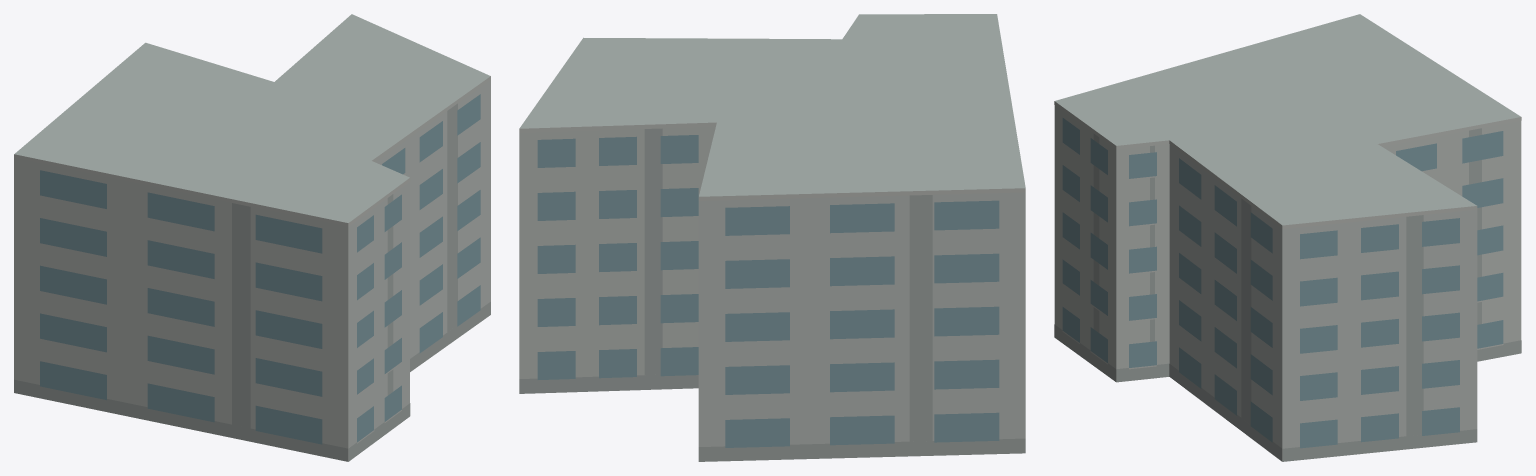
Rendered from residential-748f0e43-3990-4abc-9662-7804147257c4.glb.
3 views of the same model, side by side, from view 1: azimuth 30°, elevation 25°; view 2: azimuth 150°, elevation 25°; view 3: azimuth 270°, elevation 25° (orthographic). The views are drawn at different scales.
Parts seen in each view (by area): view 1: residential-748f0e43-3990-4abc-9662-7804147257c4.tmp; view 2: residential-748f0e43-3990-4abc-9662-7804147257c4.tmp; view 3: residential-748f0e43-3990-4abc-9662-7804147257c4.tmp.
Part boxes in pixels (bbox=[...]): residential-748f0e43-3990-4abc-9662-7804147257c4.tmp: bbox=[14, 14, 490, 461]; residential-748f0e43-3990-4abc-9662-7804147257c4.tmp: bbox=[519, 14, 1025, 461]; residential-748f0e43-3990-4abc-9662-7804147257c4.tmp: bbox=[1054, 14, 1521, 461].
Bounding box in the file's own units: 29.26 × 15.25 × 27.31.
